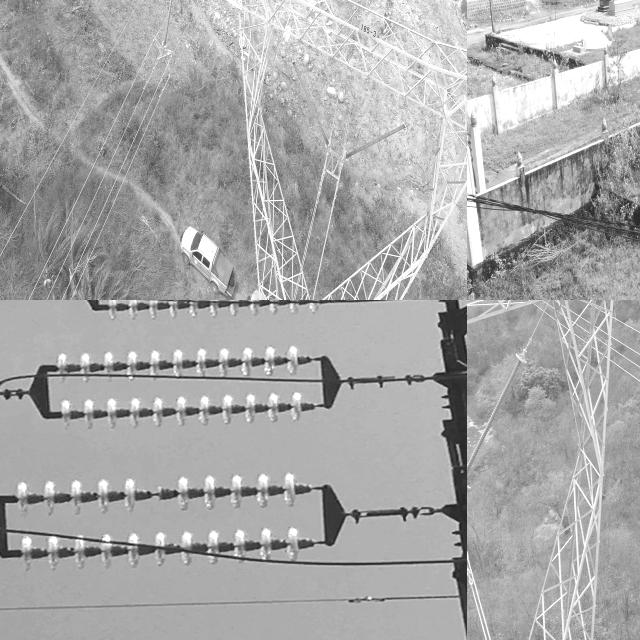杆塔: (170, 0, 467, 300), (467, 300, 621, 640), (411, 300, 467, 640)
正常电缆: (0, 588, 467, 620), (620, 361, 640, 388)
正常绝缘子: (11, 523, 320, 570), (3, 473, 323, 512), (54, 390, 328, 430), (48, 345, 322, 384), (92, 300, 341, 318), (289, 56, 331, 149), (343, 119, 410, 162), (161, 0, 175, 49)
绝缘子破损: (141, 486, 170, 502)
